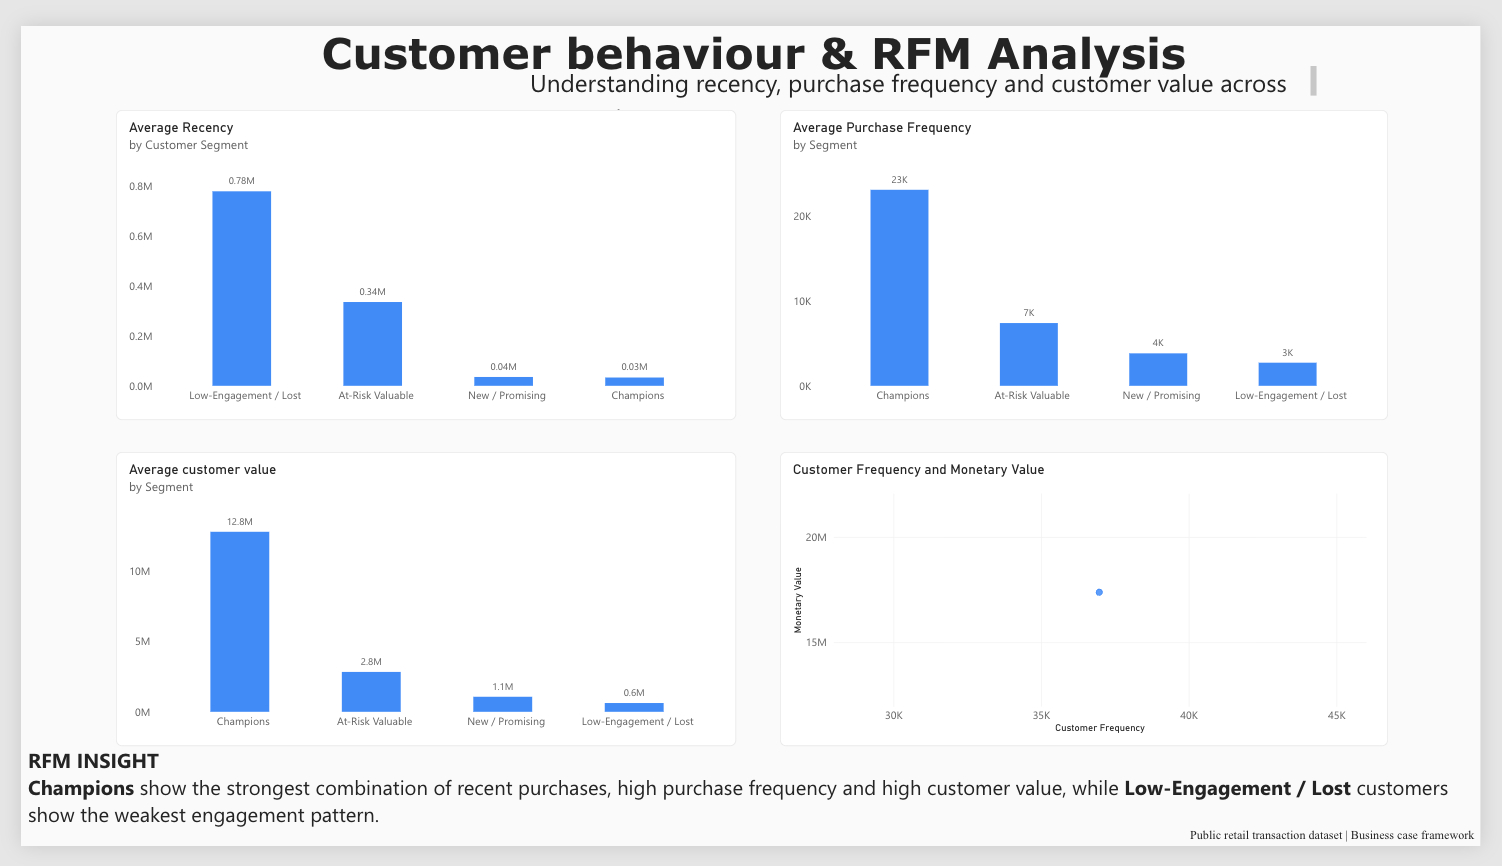

Layout of this report page (visuals, bound fields, positions):
{"tool":"powerbi","page":{"name":"Customer Behaviour & RFM Analysis","canvas":[1920,1080],"ordinal":1},"visuals":[{"type":"clusteredColumnChart","fields":{"Category":["final_customer_segments.Segment"],"Y":["Sum(final_customer_segments.Recency)"]},"box":[11.6,0,525.4,540.8],"z":0},{"type":"clusteredColumnChart","fields":{"Category":["final_customer_segments.Segment"],"Y":["Sum(final_customer_segments.Frequency)"]},"box":[537,42.5,506.1,455.9],"z":1000},{"type":"clusteredColumnChart","fields":{"Category":["final_customer_segments.Segment"],"Y":["Sum(final_customer_segments.Monetary)"]},"box":[0,579.5,525,418.5],"z":2000},{"type":"scatterChart","fields":{"X":["Sum(final_customer_segments.Frequency)"],"Y":["Sum(final_customer_segments.Monetary)"]},"box":[537,540.8,502.2,455.9],"z":3000}]}

Visuals, with their boxes in screenshot pixels (x1, y1, x2, y2), scaled from the page's 1920x1080 canvas onto the 1502x866 screenshot:
clusteredColumnChart - final_customer_segments.Segment x Sum(final_customer_segments.Recency): l=9, t=0, r=420, b=434
clusteredColumnChart - final_customer_segments.Segment x Sum(final_customer_segments.Frequency): l=420, t=34, r=816, b=400
clusteredColumnChart - final_customer_segments.Segment x Sum(final_customer_segments.Monetary): l=0, t=465, r=411, b=800
scatterChart - Sum(final_customer_segments.Frequency) x Sum(final_customer_segments.Monetary): l=420, t=434, r=813, b=799
